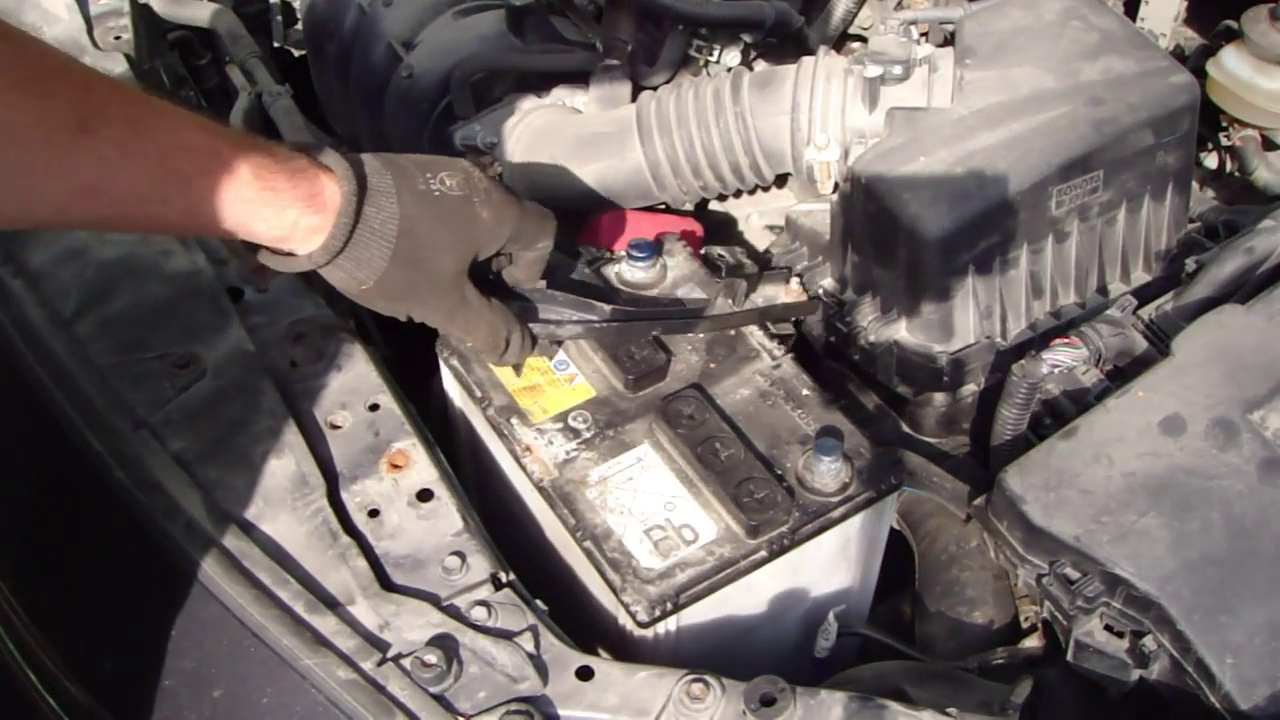battery: (440, 239, 897, 590)
neg_disconnected: (782, 424, 877, 510)
pos_disconnected: (576, 197, 713, 307)
